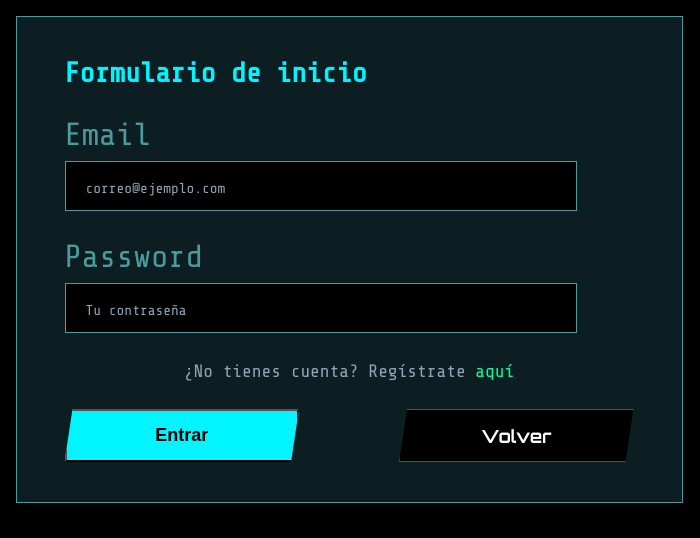
Test case: LoginForm › muestra error de email no encontrado en respuesta 404
This screenshot has width=700, height=538.
Type "noexiste@test.com" into the field labelled "Email".
click(321, 186); type("noexiste@test.com")  # box left=64, top=161, right=577, bottom=211
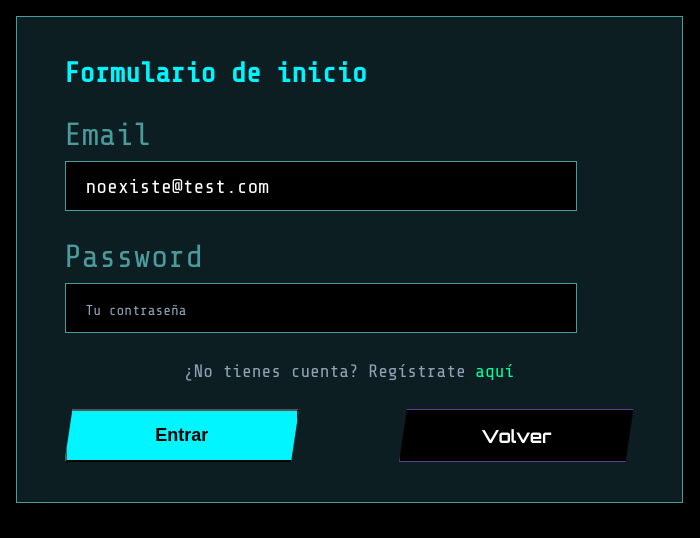
Type "password123" into the password field labelled "Password".
click(321, 308); type("password123")  # box left=64, top=283, right=577, bottom=333
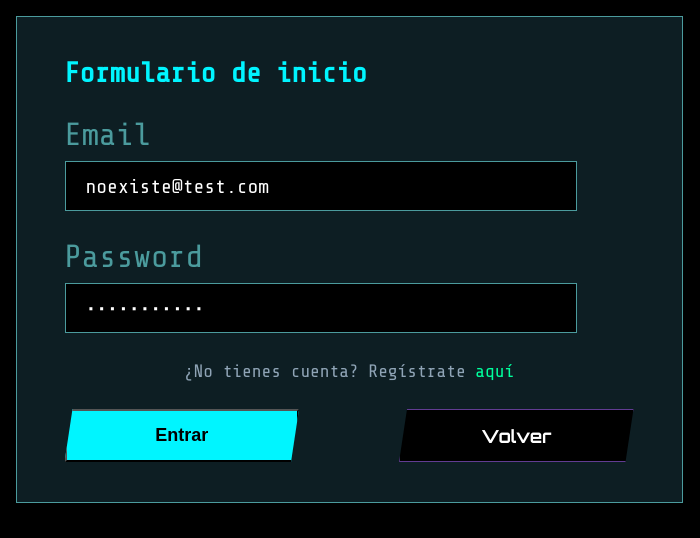
Click the button "Entrar".
click(182, 436)  # box left=64, top=409, right=299, bottom=462
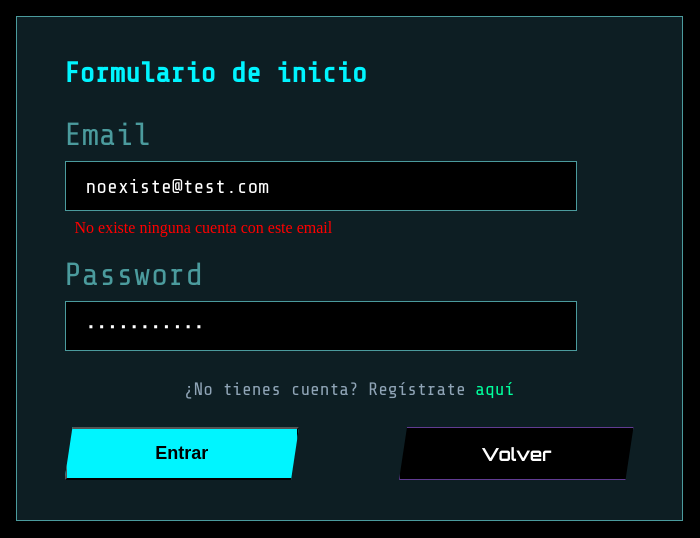
Check: the text "No existe ninguna cuenta con este email" is shown, box left=74, top=219, right=332, bottom=236
